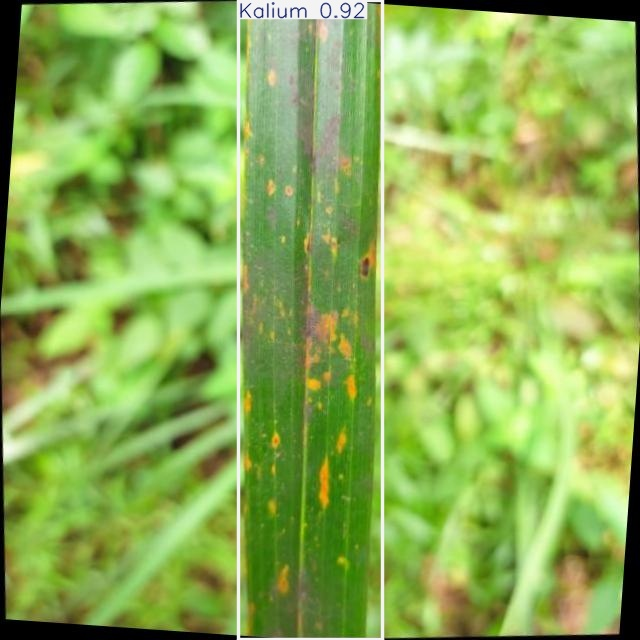Kalium: (239, 1, 383, 639)
